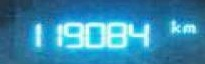0: (84, 20, 104, 48)
1: (32, 21, 42, 51), (53, 19, 62, 49)
4: (127, 22, 150, 47)
8: (105, 21, 125, 47)
9: (62, 21, 82, 47)
X: (180, 22, 194, 33), (169, 18, 179, 33)
